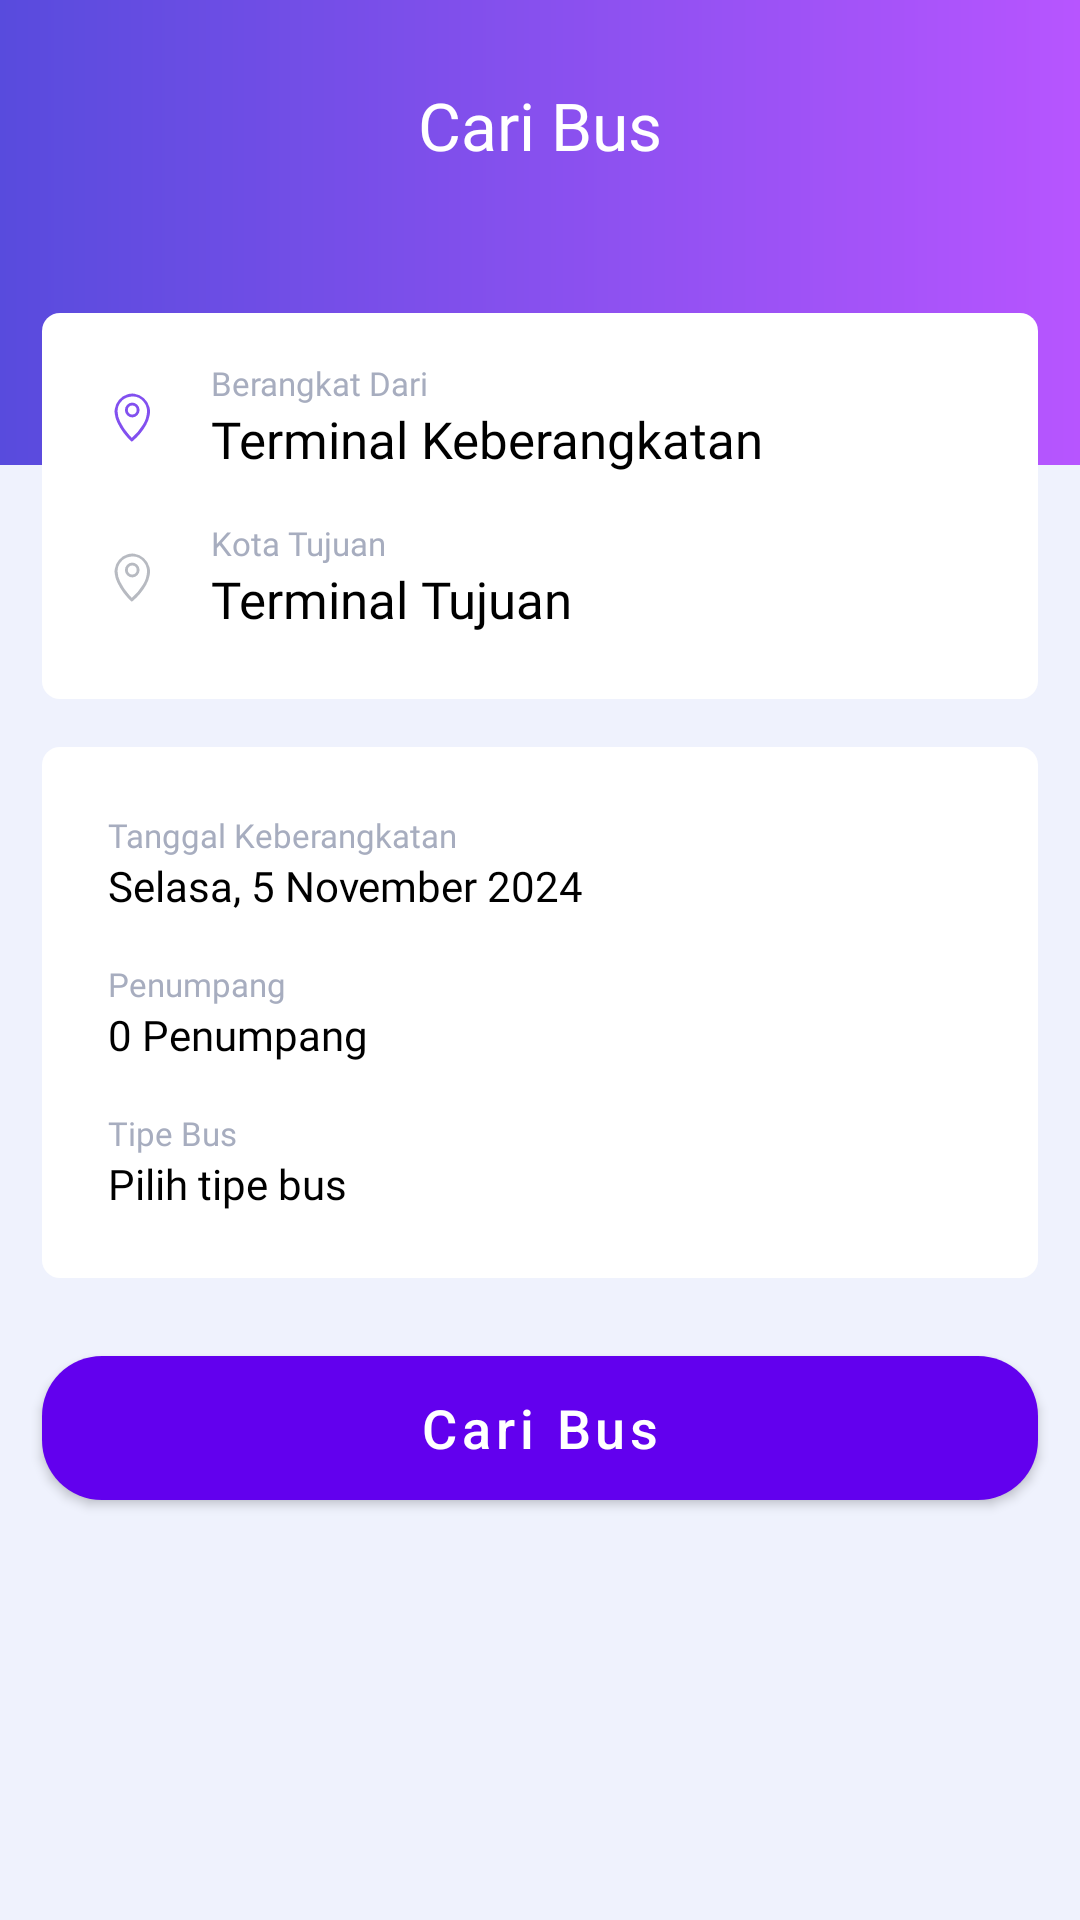

Icons on this 1080 x 1920 Android screen, each with the point to tap as [x,y]:
location from: [132,417]
location to: [132,577]
